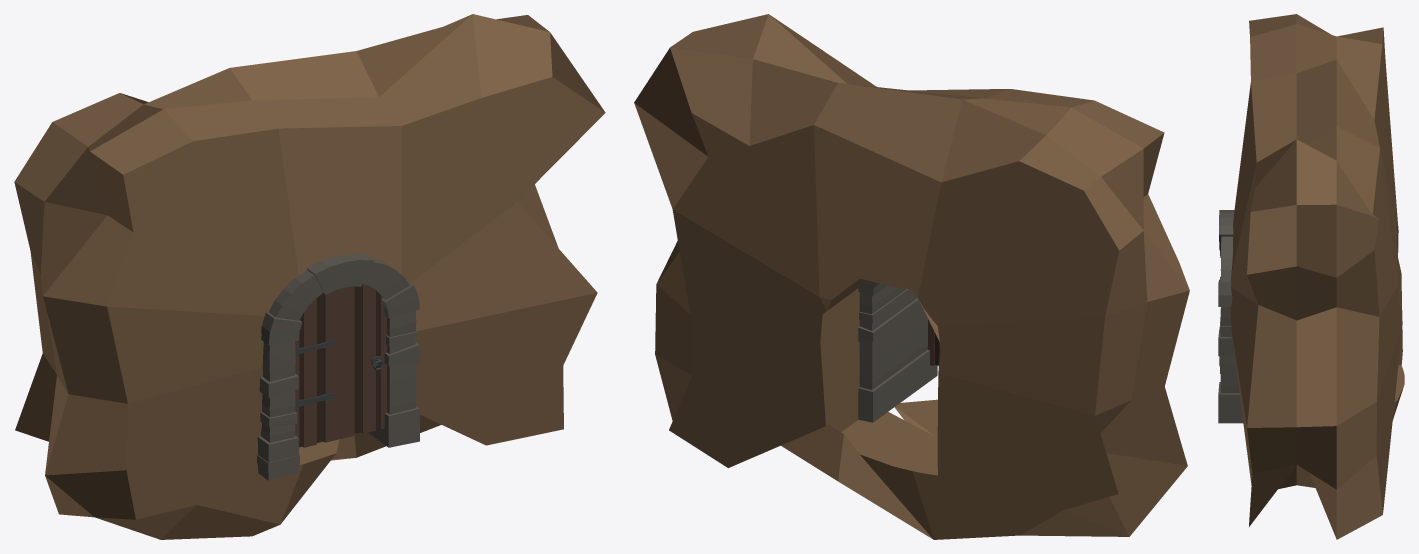
File: EntranceDoor.fbx
3 views of the same model, side by side, from view 1: azimuth 30°, elevation 25°; view 2: azimuth 150°, elevation 25°; view 3: azimuth 270°, elevation 25° (orthographic). The views are drawn at different scales.
Parts seen in each view (by area): view 1: Wall1, Frame1, Door1; view 2: Wall1, Frame1; view 3: Wall1, Frame1.
Part boxes in pixels (bbox=[...]): Wall1: bbox=[14, 14, 605, 539]; Frame1: bbox=[257, 254, 419, 480]; Door1: bbox=[295, 284, 387, 448]; Wall1: bbox=[634, 14, 1189, 539]; Frame1: bbox=[858, 280, 937, 422]; Wall1: bbox=[1230, 14, 1404, 539]; Frame1: bbox=[1218, 210, 1243, 423].
Bounding box in the file's own units: 767 × 630 × 259.
